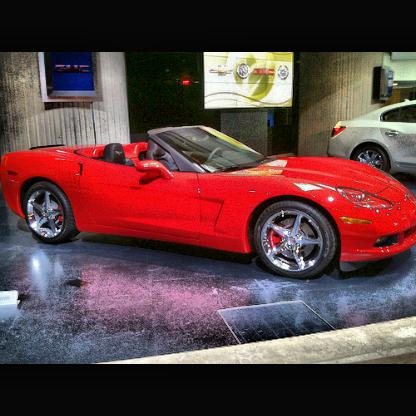Chevrolet Corvette Convertible 2012: (4, 120, 416, 284)
